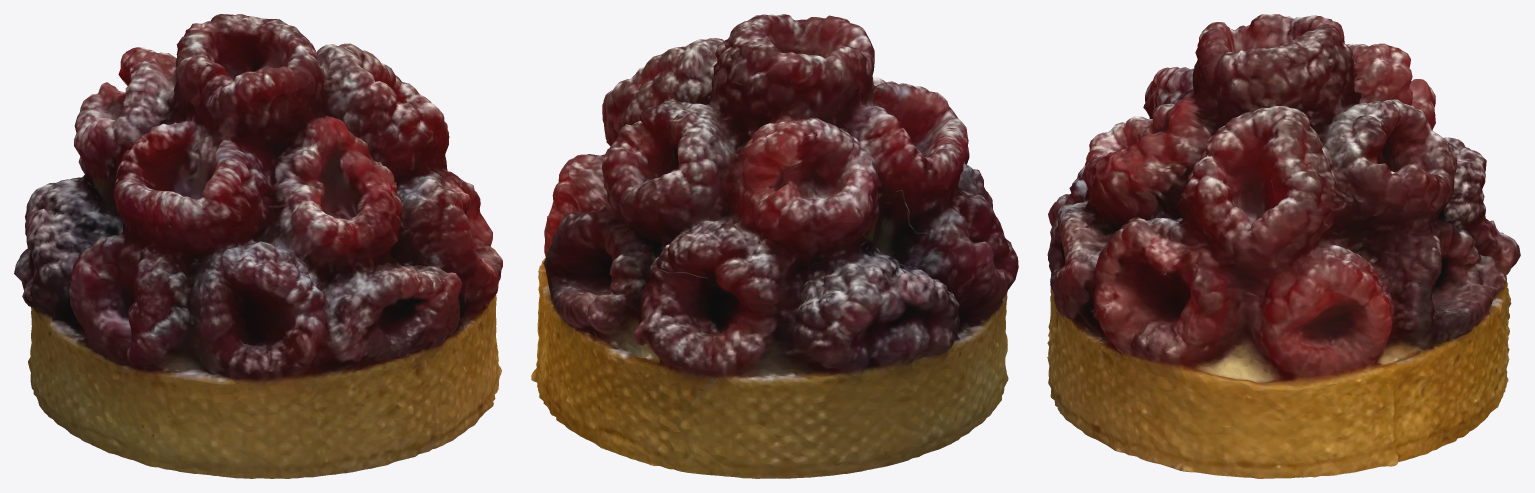
File: raspberry.glb
3 renders of one model, left to right at view 1: azimuth 30°, elevation 25°; view 2: azimuth 150°, elevation 25°; view 3: azimuth 270°, elevation 25°, orthographic. The views are drawn at different scales.
Visible parts, largest first — view 1: Object_2; view 2: Object_2; view 3: Object_2.
Part boxes in pixels (x1=…): Object_2: x1=14, y1=14, x2=502, y2=478; Object_2: x1=531, y1=14, x2=1018, y2=478; Object_2: x1=1047, y1=14, x2=1520, y2=478.
Size of the model in its own units: 0.1984 by 0.1608 by 0.2.
1 material, 1 textured.
